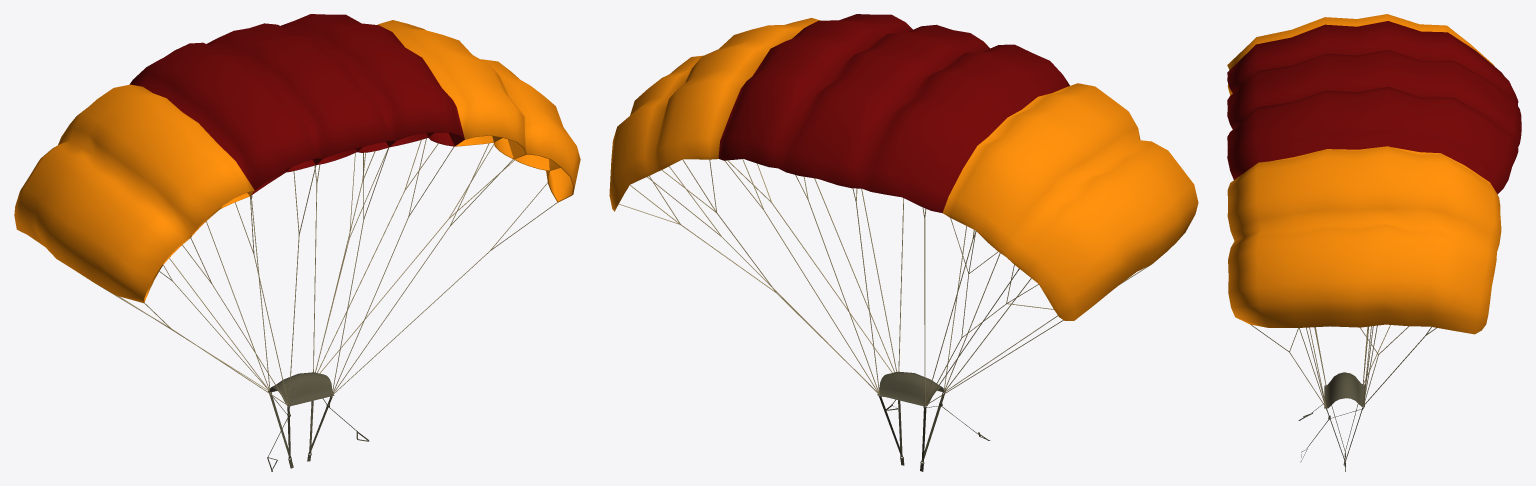
Rendered from Parachute 1.FBX.
3 renders of one model, left to right at view 1: azimuth 30°, elevation 25°; view 2: azimuth 150°, elevation 25°; view 3: azimuth 270°, elevation 25°, orthographic. The views are drawn at different scales.
Visible parts, largest first — view 1: parachute 1; view 2: parachute 1; view 3: parachute 1.
Part boxes in pixels (x1,y1,x2,y2): parachute 1: (14, 14, 580, 471); parachute 1: (609, 14, 1198, 471); parachute 1: (1227, 14, 1521, 471).
Size of the model in its own units: 498 by 392 by 255.
